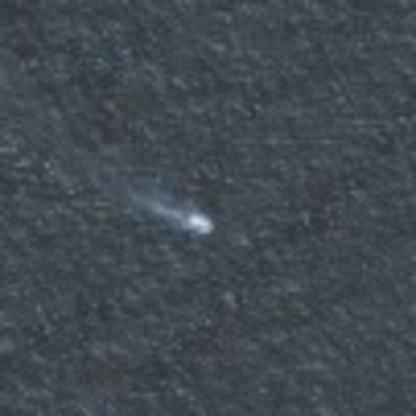ship: (183, 209, 217, 235)
